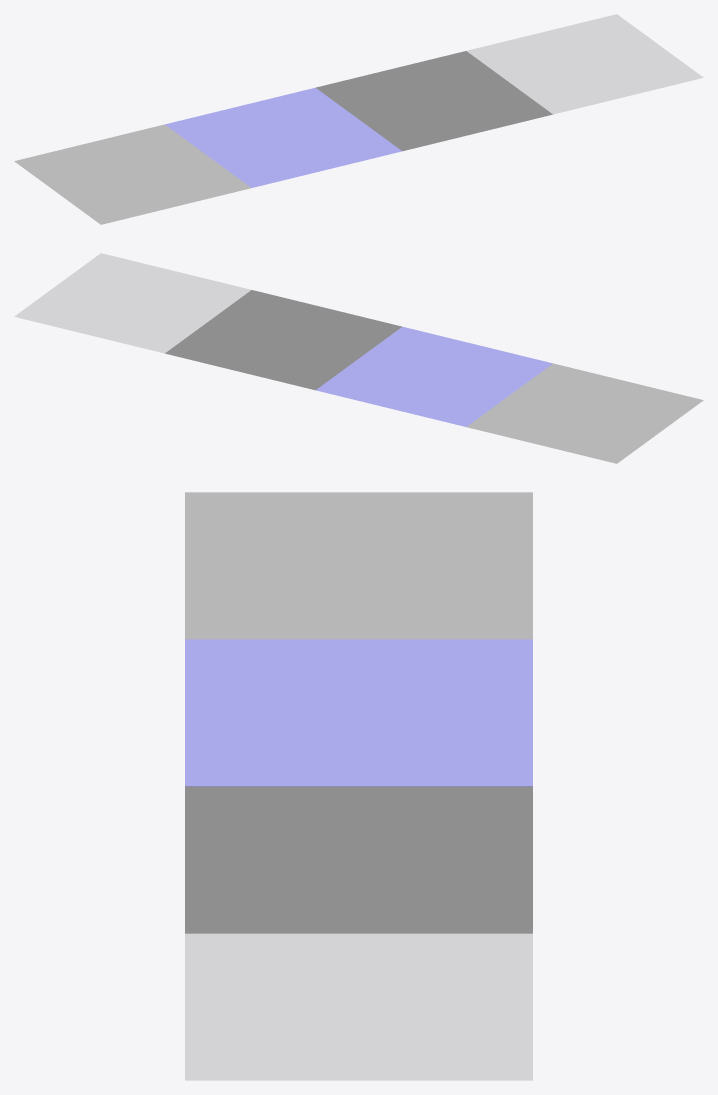
The model's file is seed_transparency_modes.dae.
The picture shows the model from 3 angles, top to bottom: view 1: azimuth 30°, elevation 25°; view 2: azimuth 150°, elevation 25°; view 3: azimuth 270°, elevation 25°; orthographic projection. The views are drawn at different scales.
Parts seen in each view (by area): view 1: RGBZ, RGBO, AZ, AO; view 2: RGBZ, RGBO, AZ, AO; view 3: RGBZ, RGBO, AZ, AO.
Part boxes in pixels (x1,y1,x2,y2): RGBZ: (14,124,251,224); RGBO: (165,88,401,187); AZ: (316,51,552,150); AO: (467,14,702,113); RGBZ: (466,363,703,463); RGBO: (316,327,552,426); AZ: (165,290,401,389); AO: (15,253,250,352); RGBZ: (185,492,532,639); RGBO: (185,639,532,786); AZ: (185,786,532,933); AO: (185,934,532,1079).
Size of the model in its own units: 8 by 0 by 2.
